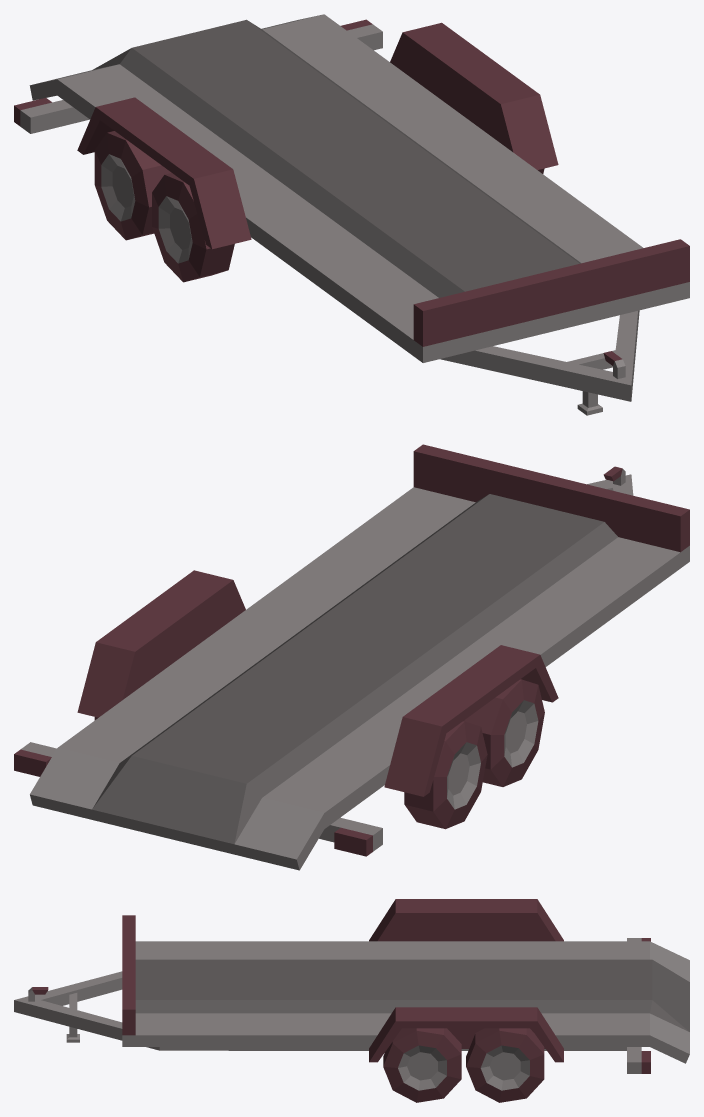
Rendered from car-trailer-big-standing.fbx.
3 views of the same model, one above another, from view 1: azimuth 30°, elevation 25°; view 2: azimuth 150°, elevation 25°; view 3: azimuth 270°, elevation 25° (orthographic). The views are drawn at different scales.
Visible parts, largest first — view 1: car-trailer-big-standing; view 2: car-trailer-big-standing; view 3: car-trailer-big-standing.
Boxes of the visible parts, <box> form: car-trailer-big-standing: <box>14,14,689,415</box>; car-trailer-big-standing: <box>14,444,689,870</box>; car-trailer-big-standing: <box>14,899,689,1102</box>.
Size of the model in its own units: 2.61 by 0.8148 by 6.
